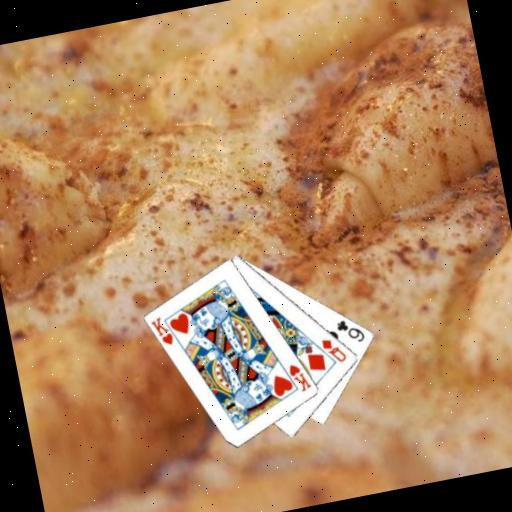6C: (333, 313, 368, 347)
KH: (148, 312, 177, 350), (285, 359, 314, 396)
QD: (318, 333, 349, 367)
